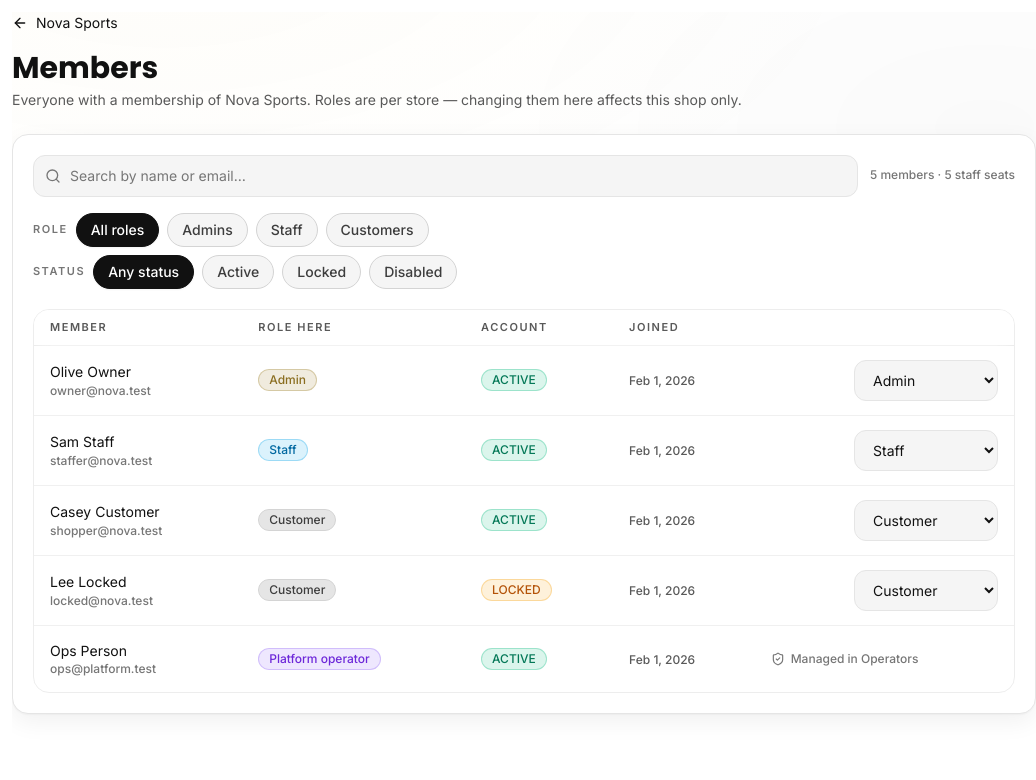
Test: Store members — filters › narrows to staff, excluding the admin
Expected: the text "Olive Owner" is shown, [50, 363, 131, 380]
Click the button "Staff".
click(287, 230)  # box [271, 220, 303, 240]
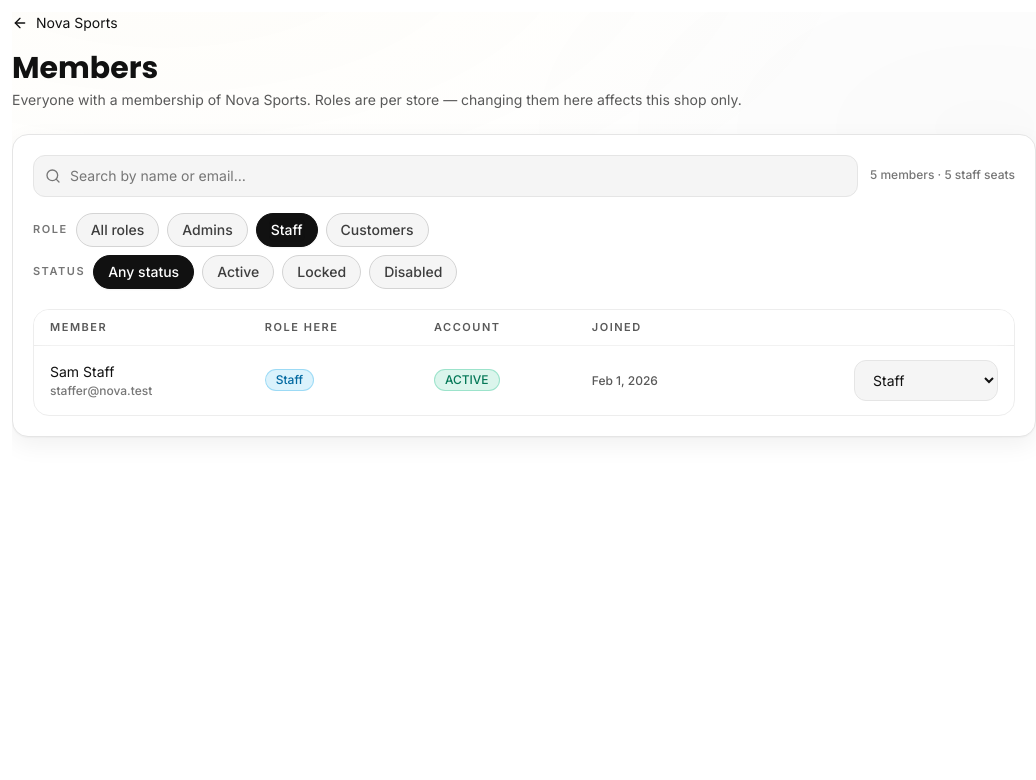
Expected: the text "Sam Staff" is shown, [50, 363, 114, 380]
Expected: the text "Olive Owner" is gone
